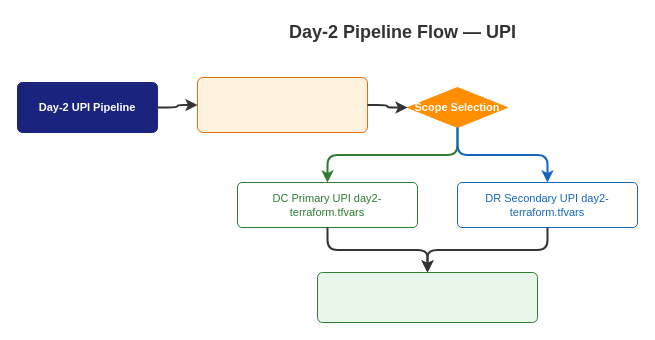
The diagram is 655 pixels wide and 340 high, and some of its shapes have lost their labels. The box of each missing label's shape, as (x1, y1, x2, y2) in pixels:
deploymentScope + terraformAction: (196, 76, 368, 132)
terraform init + apply -var-file=day2-terraform.tfvars: (316, 272, 538, 322)
